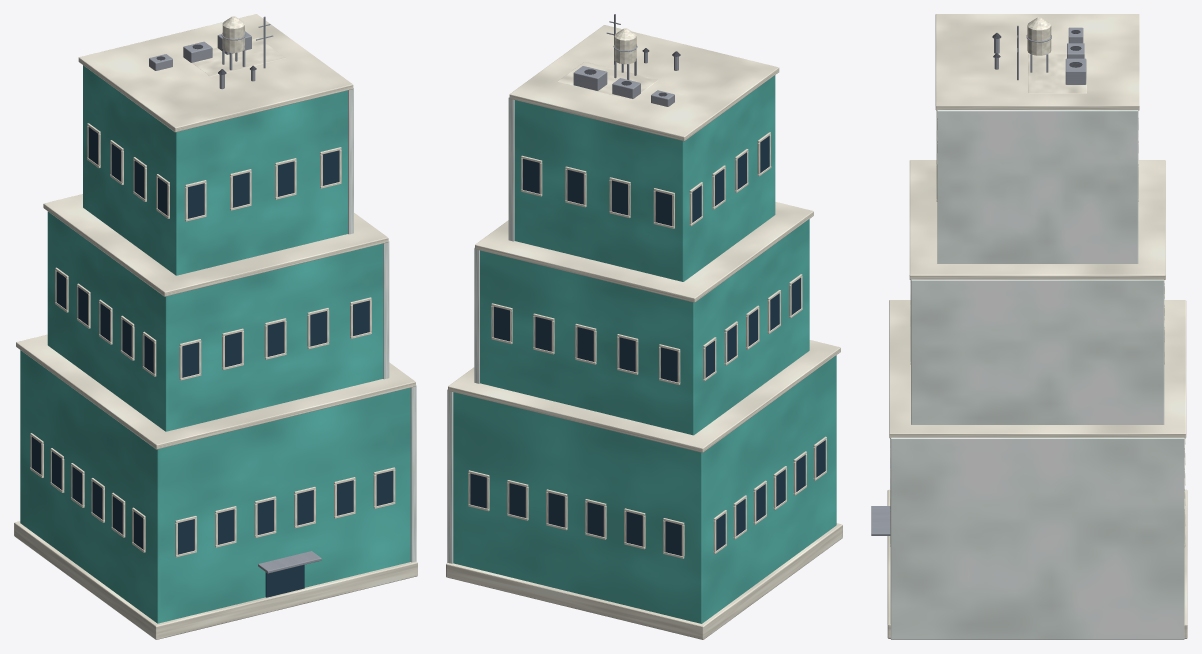
Rendered from bldg_deco_teal.glb.
The picture shows the model from 3 angles, left to right: view 1: azimuth 30°, elevation 25°; view 2: azimuth 150°, elevation 25°; view 3: azimuth 270°, elevation 25°; orthographic projection. The views are drawn at different scales.
Parts seen in each view (by area): view 1: bldg_deco_teal_band_0_wall, bldg_deco_teal_band_1_wall, bldg_deco_teal_band_2_wall, bldg_deco_teal_band_2_cornice, bldg_deco_teal_band_1_cornice, bldg_deco_teal_band_0_cornice, bldg_deco_teal_plinth, bldg_deco_teal_roof_curb, bldg_deco_teal_band_0_pilaster, bldg_deco_teal_entrance, bldg_deco_teal_band_1_pilaster, bldg_deco_teal_band_2_pilaster (+3 smaller); view 2: bldg_deco_teal_band_0_wall, bldg_deco_teal_band_1_wall, bldg_deco_teal_band_2_wall, bldg_deco_teal_band_2_cornice, bldg_deco_teal_band_1_cornice, bldg_deco_teal_band_0_cornice, bldg_deco_teal_plinth, bldg_deco_teal_band_0_pilaster, bldg_deco_teal_band_2_pilaster, bldg_deco_teal_roof_curb, bldg_deco_teal_band_1_pilaster, bldg_deco_teal_ac_2_case; view 3: bldg_deco_teal_band_0_pilaster, bldg_deco_teal_band_1_pilaster, bldg_deco_teal_band_2_pilaster, bldg_deco_teal_band_2_cornice, bldg_deco_teal_band_1_cornice, bldg_deco_teal_band_0_cornice, bldg_deco_teal_roof_curb, bldg_deco_teal_plinth, bldg_deco_teal_tank_a_barrel, bldg_deco_teal_canopy, bldg_deco_teal_ac_2_case.
Part boxes in pixels (x1,y1,x2,y2): bldg_deco_teal_band_0_wall: [20, 350, 410, 623]; bldg_deco_teal_band_1_wall: [47, 211, 383, 431]; bldg_deco_teal_band_2_wall: [83, 65, 347, 275]; bldg_deco_teal_band_2_cornice: [78, 14, 353, 132]; bldg_deco_teal_band_1_cornice: [43, 194, 388, 296]; bldg_deco_teal_band_0_cornice: [16, 334, 415, 449]; bldg_deco_teal_plinth: [14, 521, 417, 639]; bldg_deco_teal_roof_curb: [183, 37, 285, 76]; bldg_deco_teal_band_0_pilaster: [410, 385, 416, 562]; bldg_deco_teal_entrance: [265, 565, 304, 597]; bldg_deco_teal_band_1_pilaster: [383, 241, 389, 379]; bldg_deco_teal_band_2_pilaster: [348, 87, 353, 234]; bldg_deco_teal_band_0_wall: [453, 355, 836, 623]; bldg_deco_teal_band_1_wall: [480, 219, 809, 435]; bldg_deco_teal_band_2_wall: [514, 75, 775, 281]; bldg_deco_teal_band_2_cornice: [509, 25, 779, 141]; bldg_deco_teal_band_1_cornice: [475, 202, 813, 302]; bldg_deco_teal_band_0_cornice: [448, 340, 840, 452]; bldg_deco_teal_plinth: [446, 523, 842, 639]; bldg_deco_teal_band_0_pilaster: [447, 389, 453, 563]; bldg_deco_teal_band_2_pilaster: [508, 97, 514, 241]; bldg_deco_teal_roof_curb: [557, 61, 658, 99]; bldg_deco_teal_band_1_pilaster: [474, 247, 479, 383]; bldg_deco_teal_ac_2_case: [573, 66, 607, 90]; bldg_deco_teal_band_0_pilaster: [890, 437, 1184, 639]; bldg_deco_teal_band_1_pilaster: [911, 279, 1164, 424]; bldg_deco_teal_band_2_pilaster: [937, 110, 1138, 263]; bldg_deco_teal_band_2_cornice: [935, 14, 1139, 110]; bldg_deco_teal_band_1_cornice: [909, 160, 1165, 279]; bldg_deco_teal_band_0_cornice: [889, 300, 1186, 438]; bldg_deco_teal_roof_curb: [1028, 54, 1086, 93]; bldg_deco_teal_plinth: [887, 489, 1187, 638]; bldg_deco_teal_tank_a_barrel: [1027, 26, 1051, 55]; bldg_deco_teal_canopy: [871, 506, 890, 535]; bldg_deco_teal_ac_2_case: [1065, 58, 1086, 84].
Bounding box in the file's own units: 16.51 × 32.32 × 16.35.
6 materials, 6 textured.
